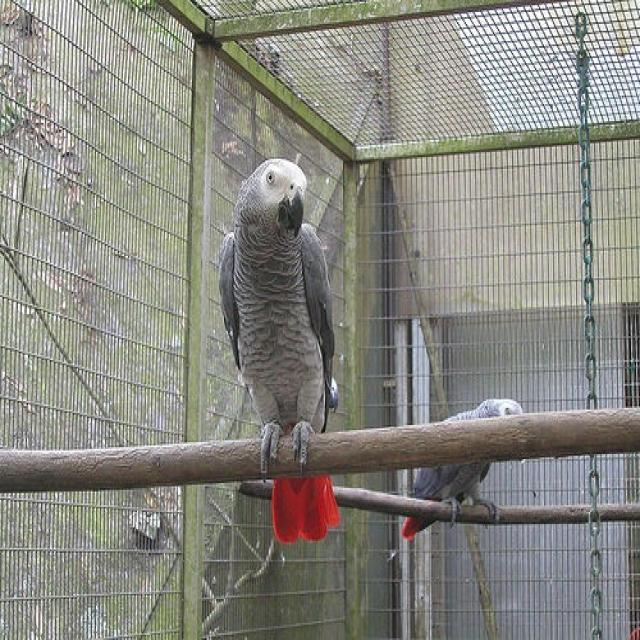bird: (219, 158, 349, 542), (403, 398, 522, 541)
